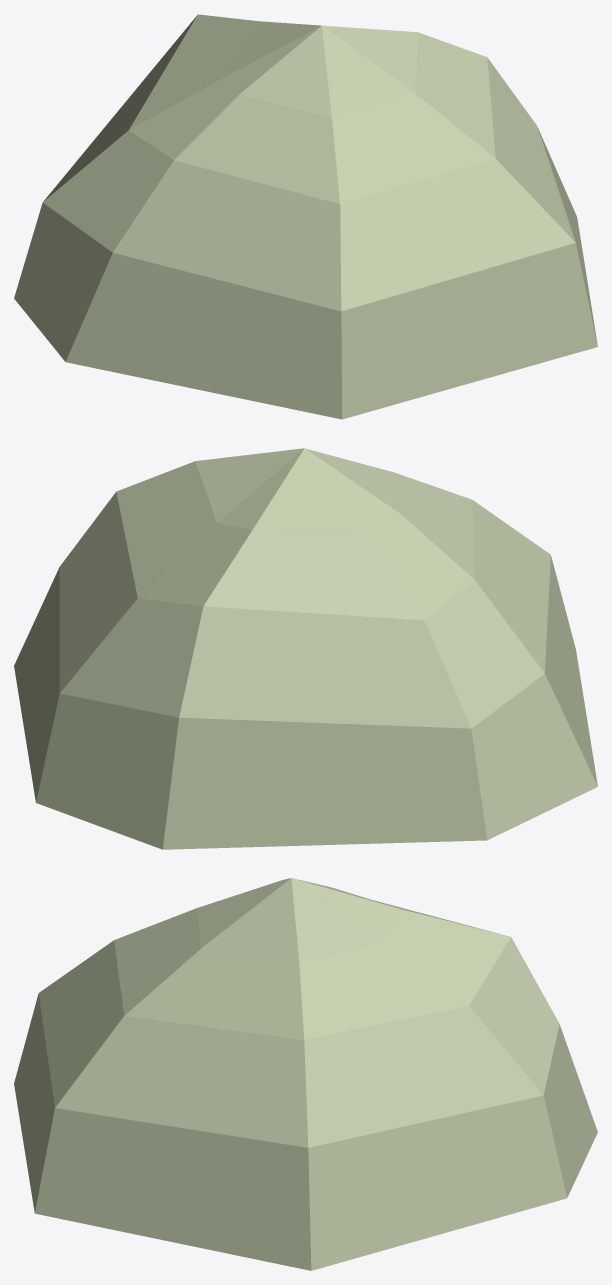
Rendered from Rocks_03.glb.
3 renders of one model, top to bottom at view 1: azimuth 30°, elevation 25°; view 2: azimuth 150°, elevation 25°; view 3: azimuth 270°, elevation 25°, orthographic. The views are drawn at different scales.
Visible parts, largest first — view 1: Rocks_03; view 2: Rocks_03; view 3: Rocks_03.
Part boxes in pixels (<box>): Rocks_03: <box>14,14,597,419</box>; Rocks_03: <box>14,448,597,849</box>; Rocks_03: <box>14,878,597,1270</box>.
Size of the model in its own units: 2.81 by 1.33 by 2.67.
Materials: 1 (1 with a texture image).
